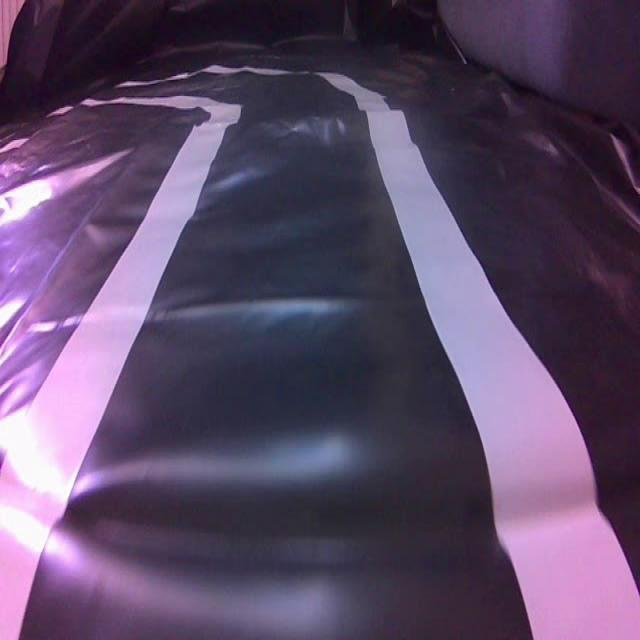LineaCarril: (321, 73, 640, 638), (0, 95, 239, 638)
